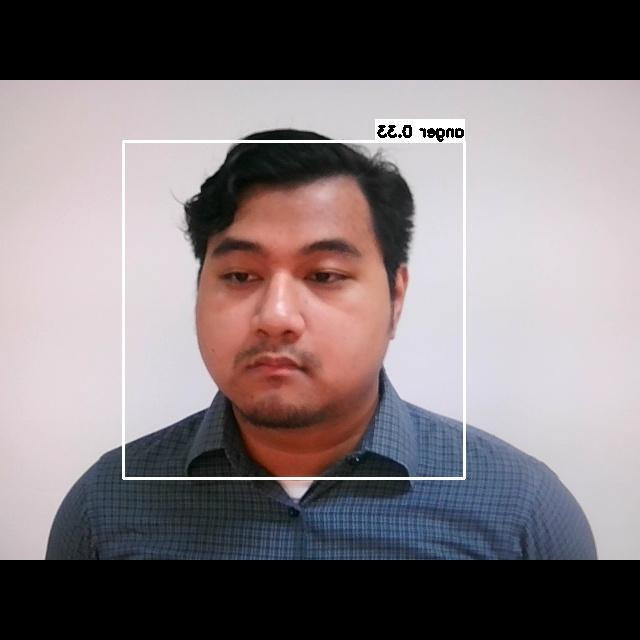Natural: (186, 216, 408, 386)
